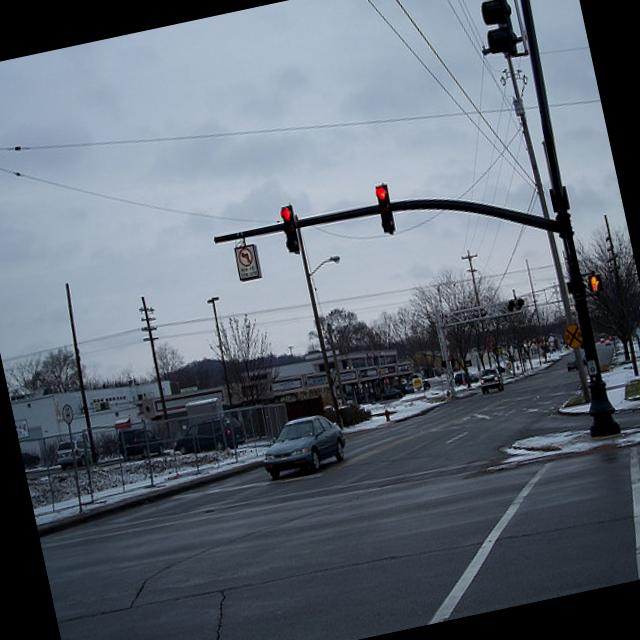Vehicle: (256, 408, 352, 484), (168, 412, 246, 461), (115, 419, 167, 466), (474, 364, 502, 396), (72, 434, 100, 465), (52, 438, 76, 471), (21, 446, 41, 468), (378, 386, 402, 400), (566, 358, 578, 372)
